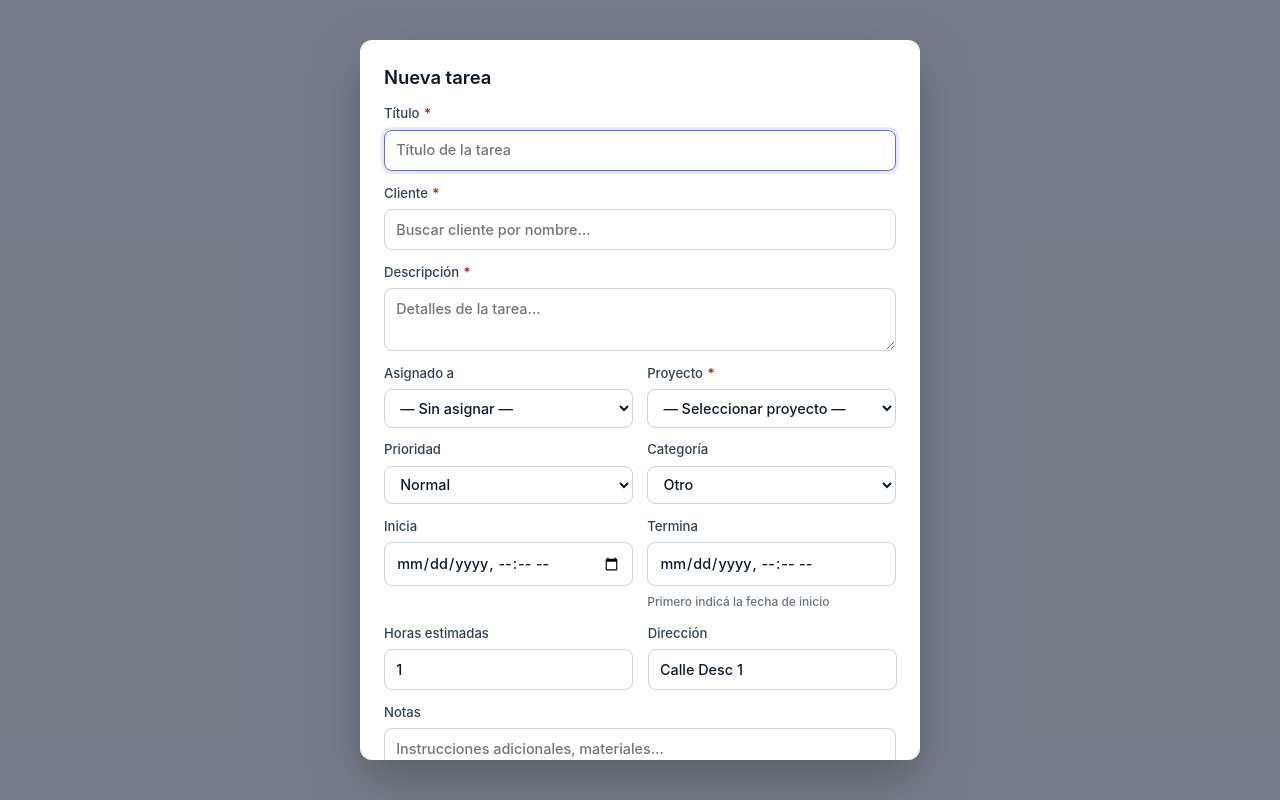
Test: CreateTaskModal › keeps Crear tarea disabled until a description is entered
In the field with placeholder "Título de la tarea": x=640, y=150 384,130 -> 896,171, type "Tarea sin desc"
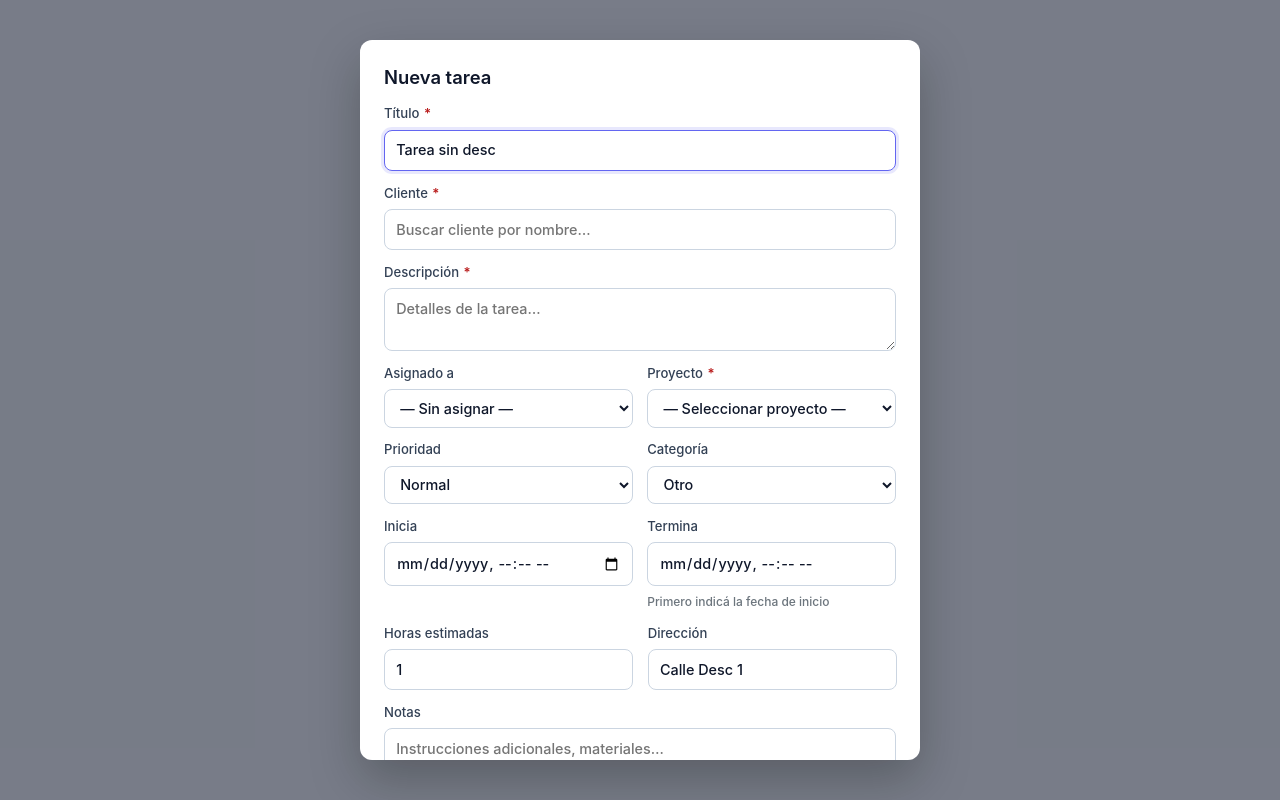
In the field with placeholder "Buscar cliente por nombre…": x=640, y=230 384,209 -> 896,250, type "Desc"
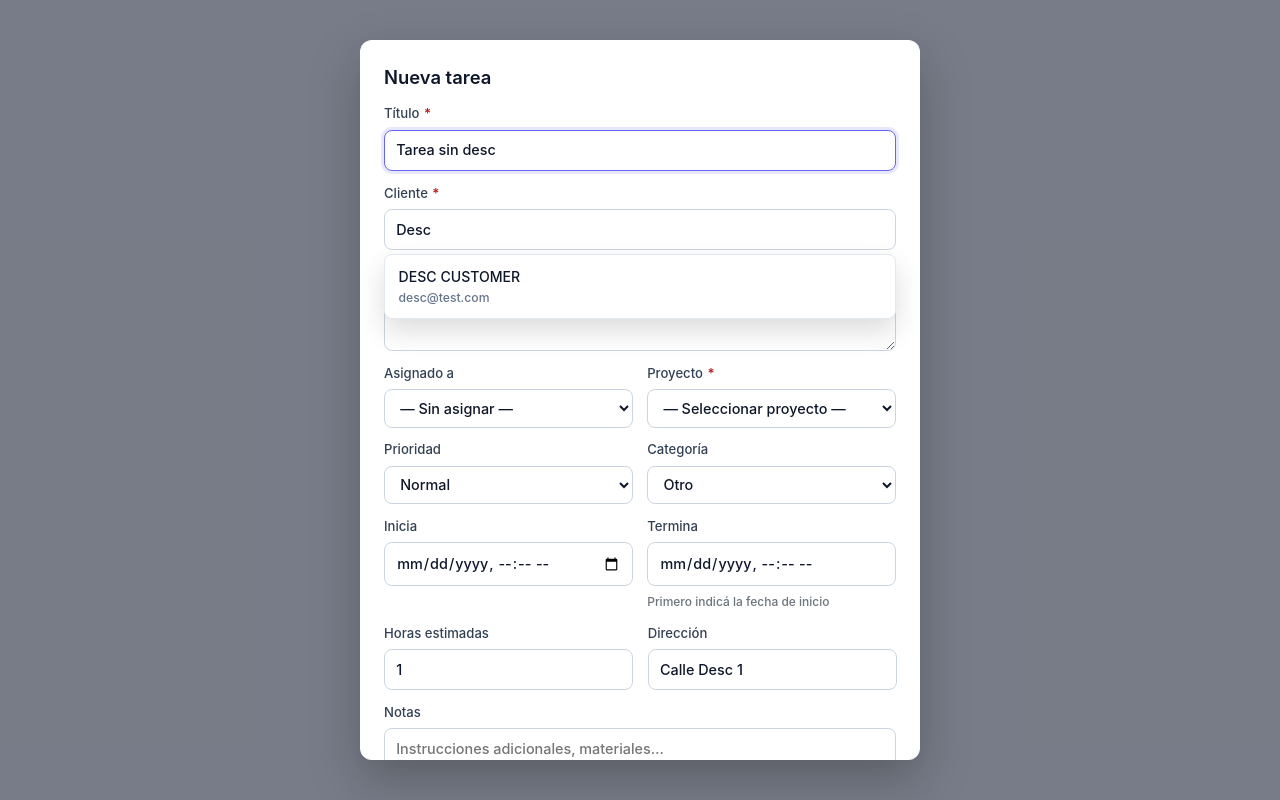
Click the text "DESC CUSTOMER": x=459, y=277 399,266 -> 520,287
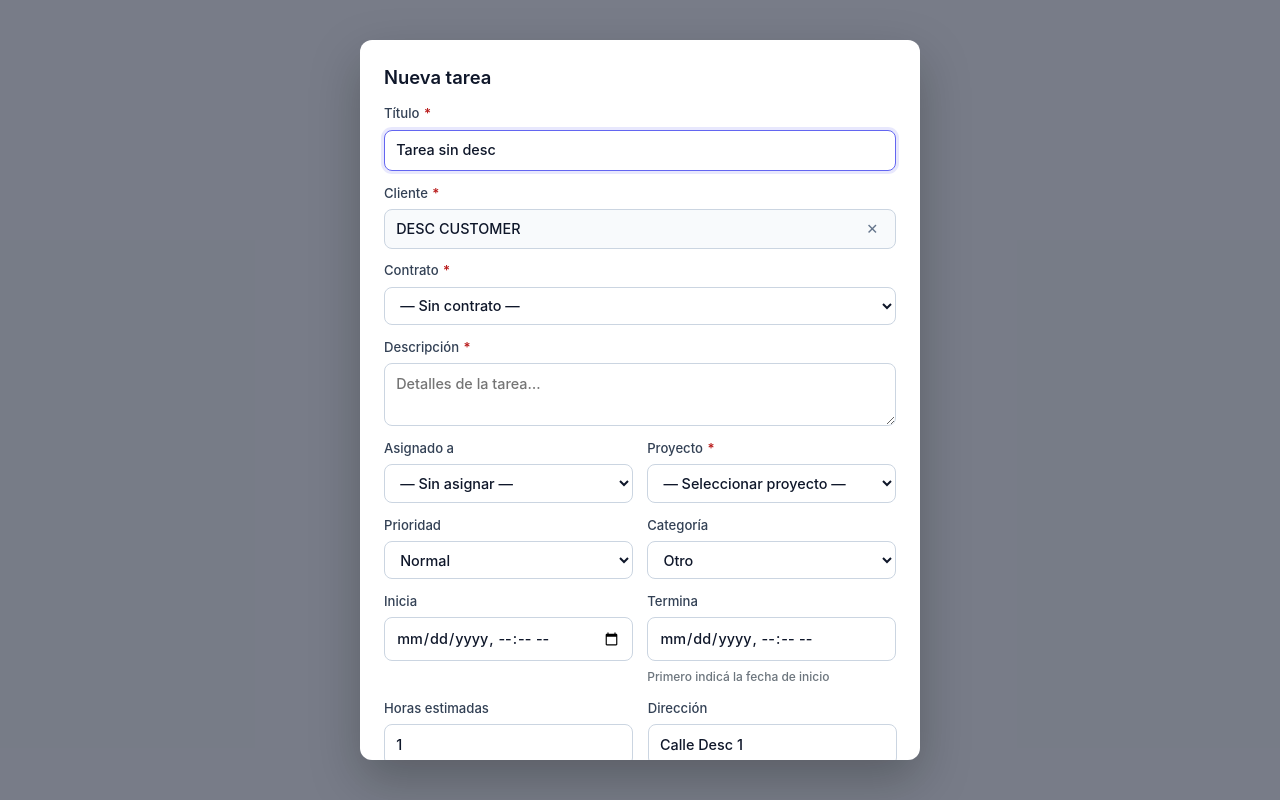
Select "Plan 50Mbps" in the dropdown labelled "Contrato *": x=640, y=306 384,287 -> 896,325
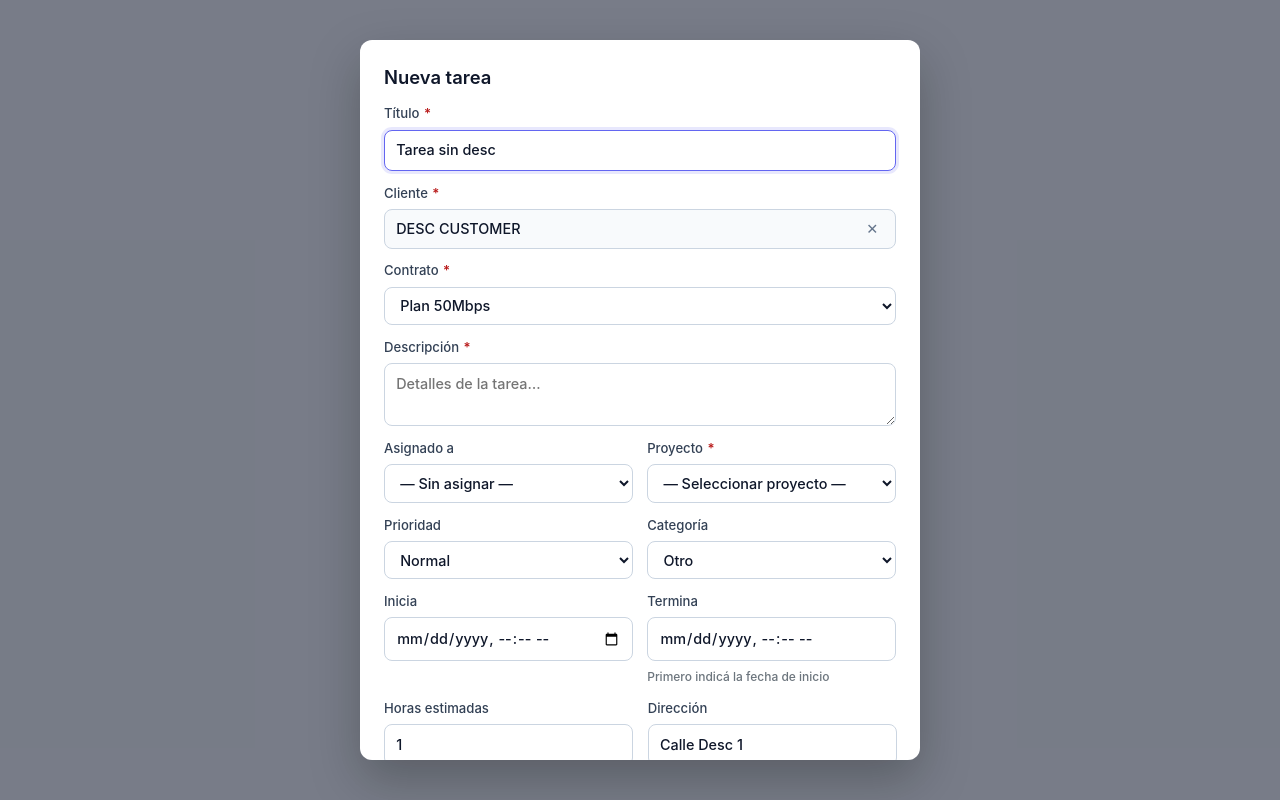
Select "Instalaciones" in the dropdown labelled "Proyecto *": x=772, y=483 647,464 -> 896,503
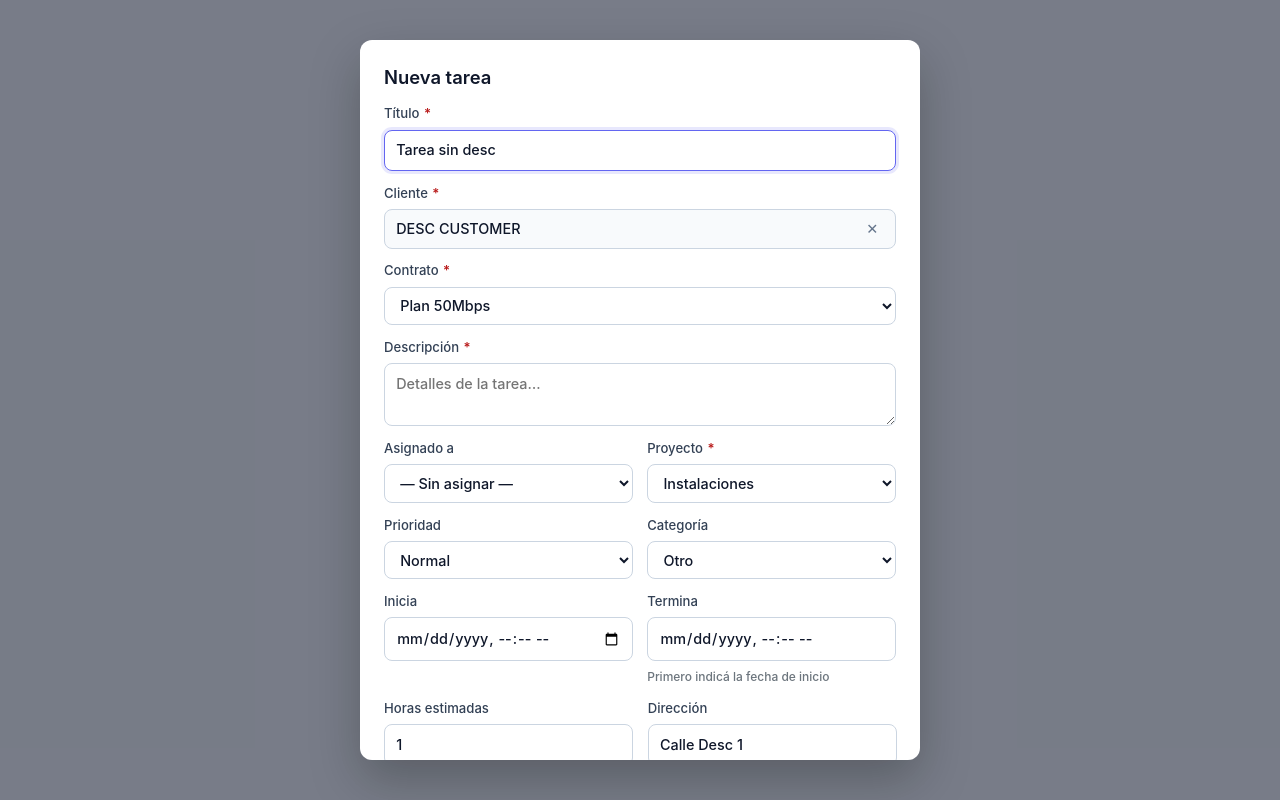
// Type description → enabled
In the text box with placeholder "Detalles de la tarea…": x=640, y=395 384,363 -> 896,426, type "descripción requerida"
(page scrolled)
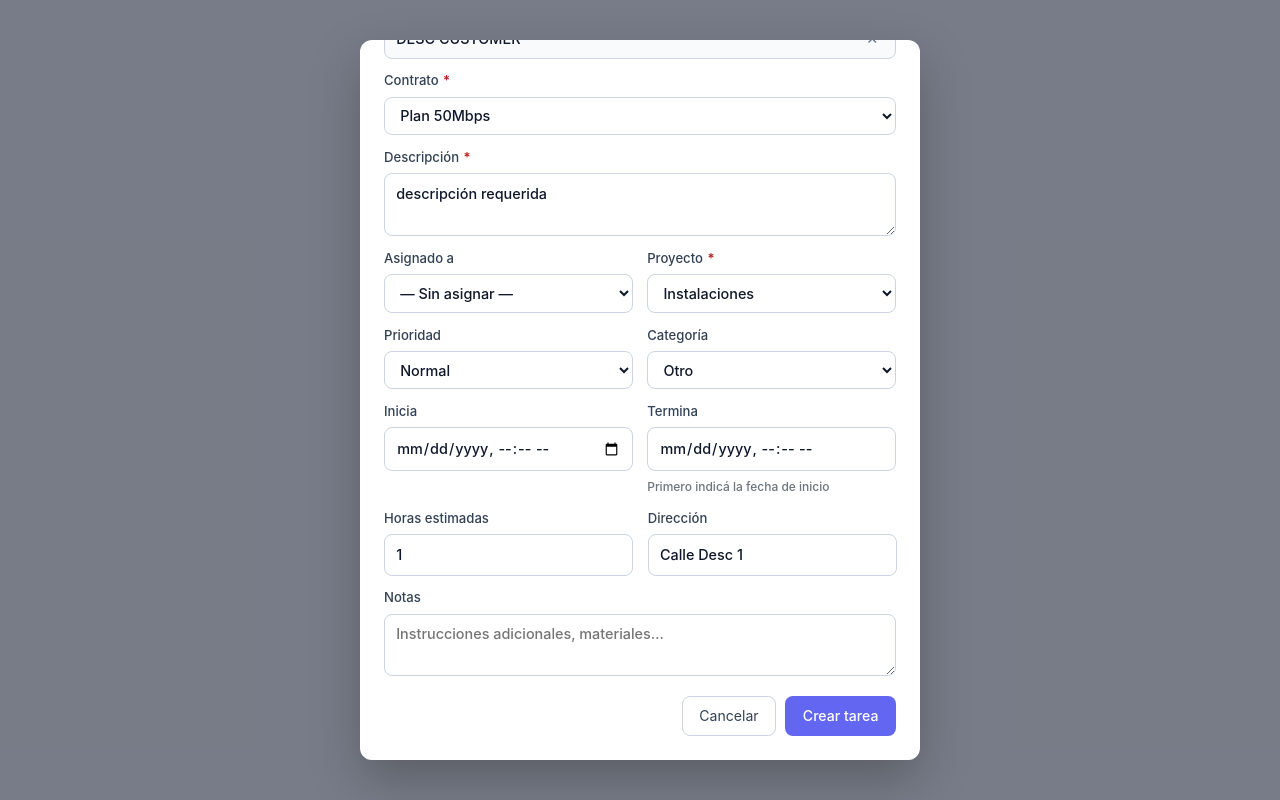
Expected: the button "Crear tarea" is enabled, 785,696 -> 896,736
